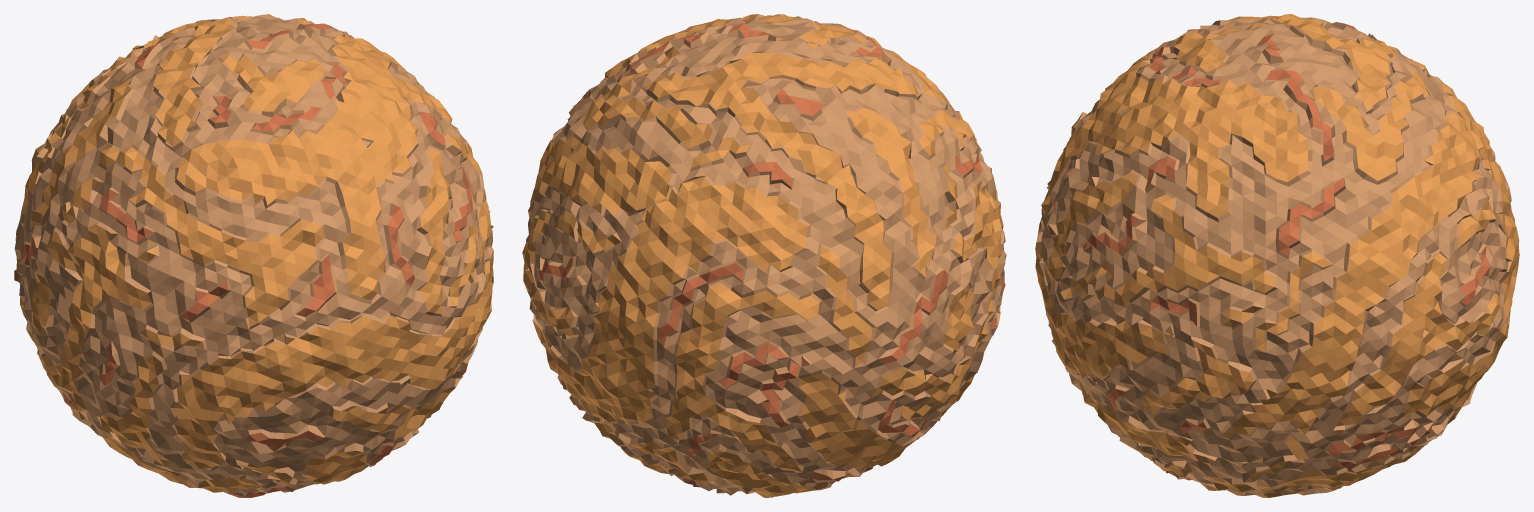
Rendered from venus0.fbx.
3 views of the same model, side by side, from view 1: azimuth 30°, elevation 25°; view 2: azimuth 150°, elevation 25°; view 3: azimuth 270°, elevation 25° (orthographic).
Parts seen in each view (by area): view 1: Venus V3; view 2: Venus V3; view 3: Venus V3.
Part boxes in pixels (bbox=[...]): Venus V3: bbox=[14, 14, 493, 497]; Venus V3: bbox=[522, 14, 1006, 497]; Venus V3: bbox=[1035, 14, 1519, 497].
Bounding box in the file's own units: 213 × 214 × 213.
